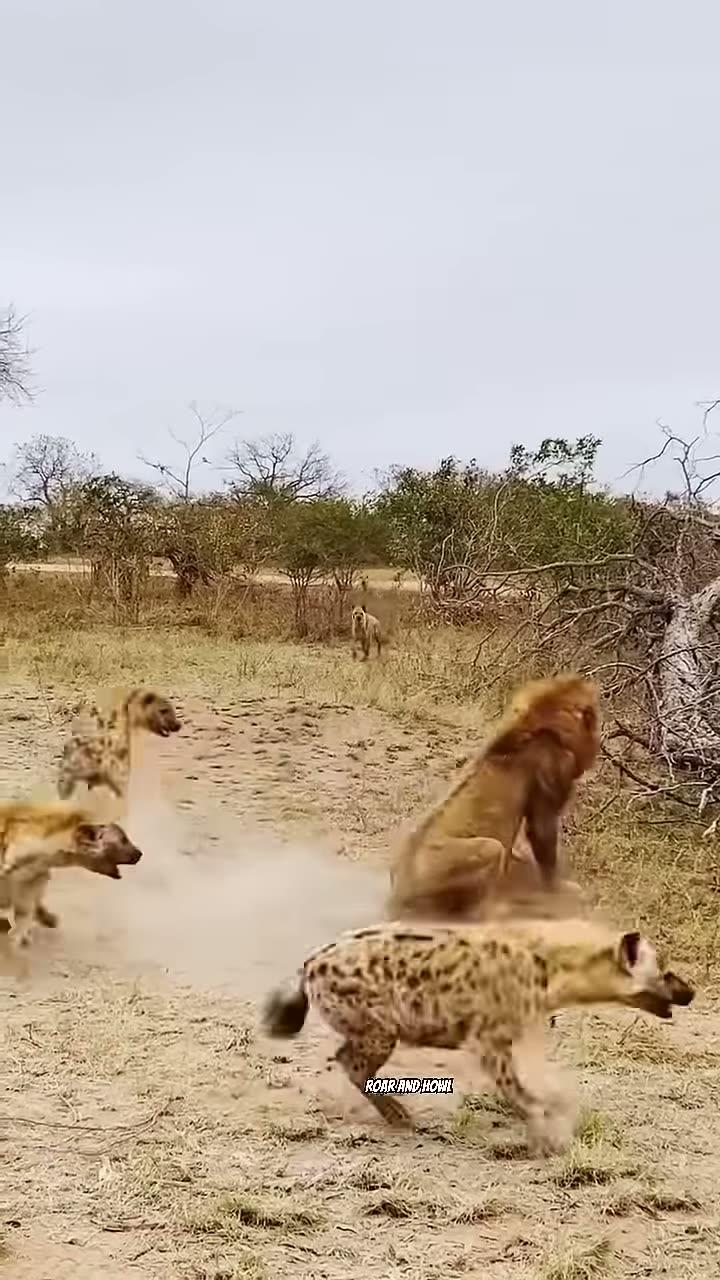hyenas: (250, 917, 720, 1280), (34, 677, 215, 988)
lions: (371, 680, 668, 905)
